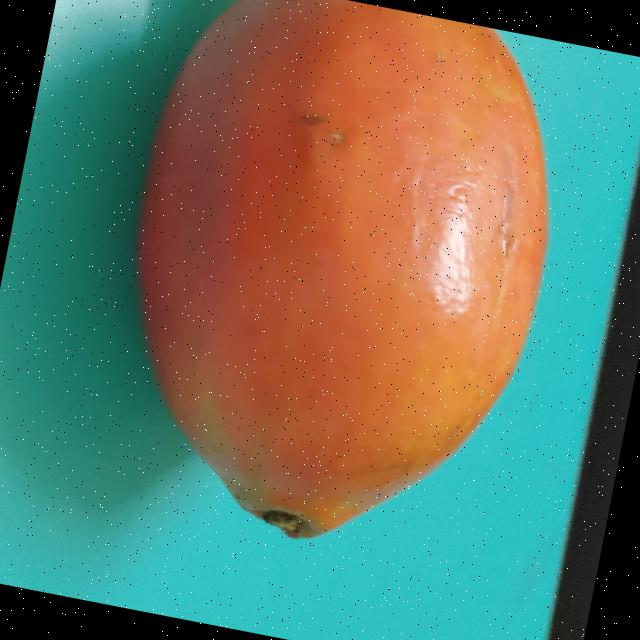Good_Pomegranate-50-60-days: (137, 0, 551, 541)
